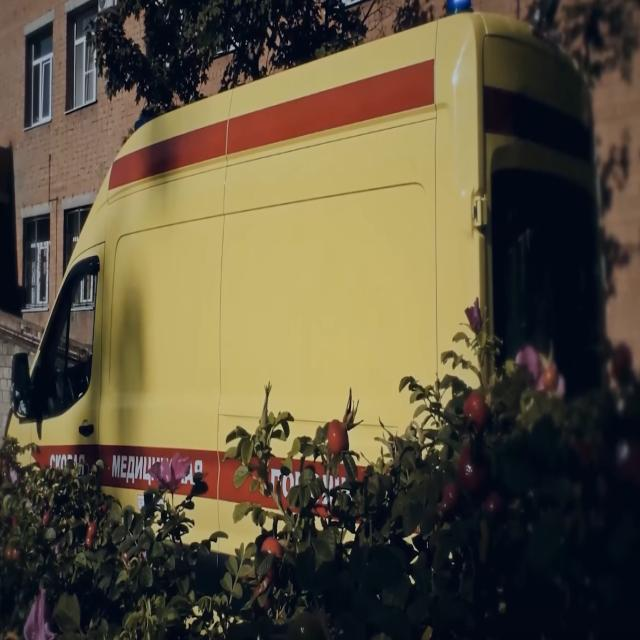intensive care unit: (7, 1, 603, 562)
